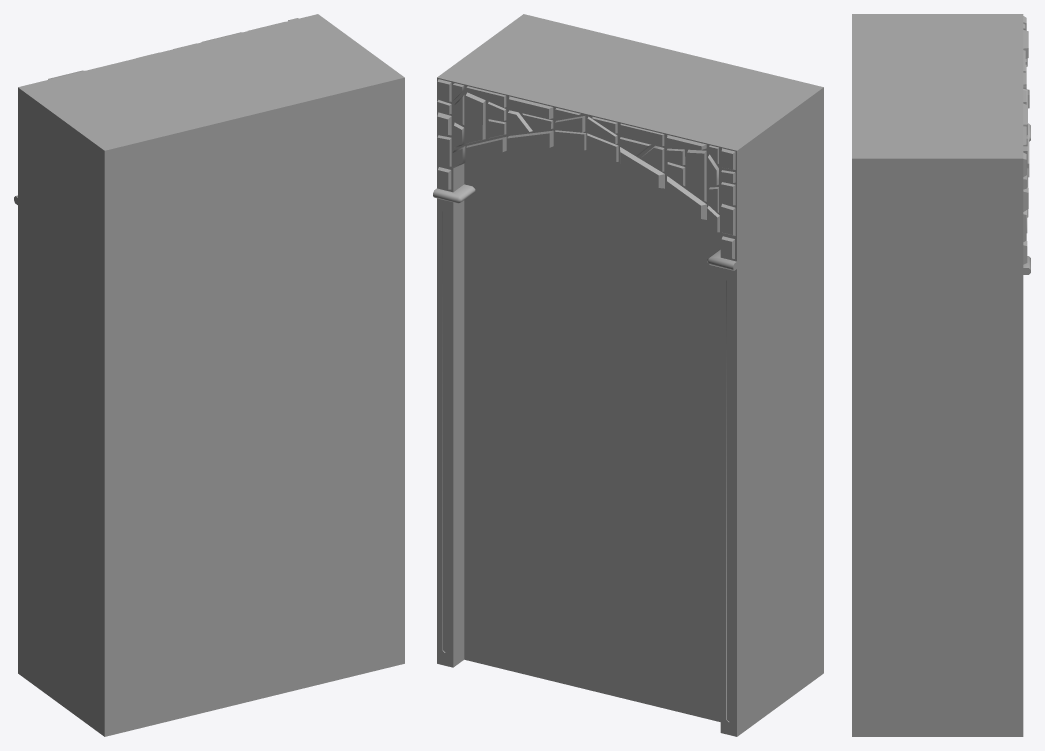
Rendered from Wall_Fat.fbx.
3 renders of one model, left to right at view 1: azimuth 30°, elevation 25°; view 2: azimuth 150°, elevation 25°; view 3: azimuth 270°, elevation 25°, orthographic.
Parts seen in each view (by area): view 1: Wall.fat; view 2: Wall.fat; view 3: Wall.fat.
Boxes of the visible parts, x1=… form: Wall.fat: x1=14, y1=14, x2=404, y2=736; Wall.fat: x1=433, y1=14, x2=823, y2=736; Wall.fat: x1=852, y1=14, x2=1030, y2=736.
Size of the model in its own units: 174 by 324 by 90.79.
